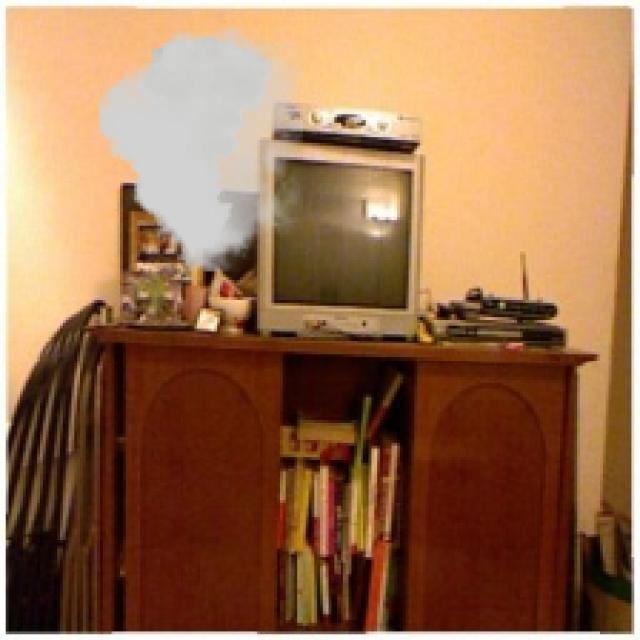smoke: (97, 26, 303, 271)
